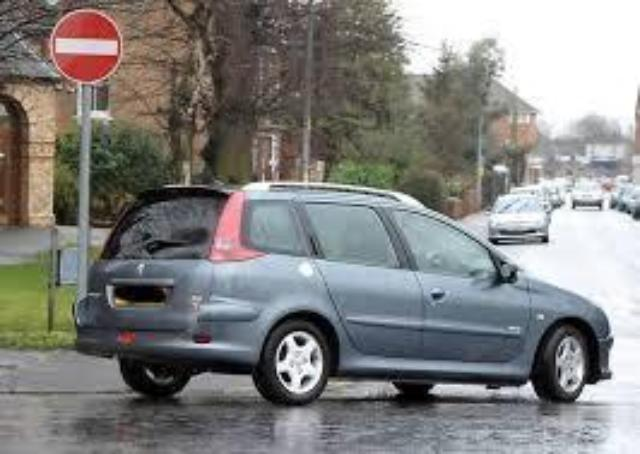B2: (44, 5, 124, 86)
